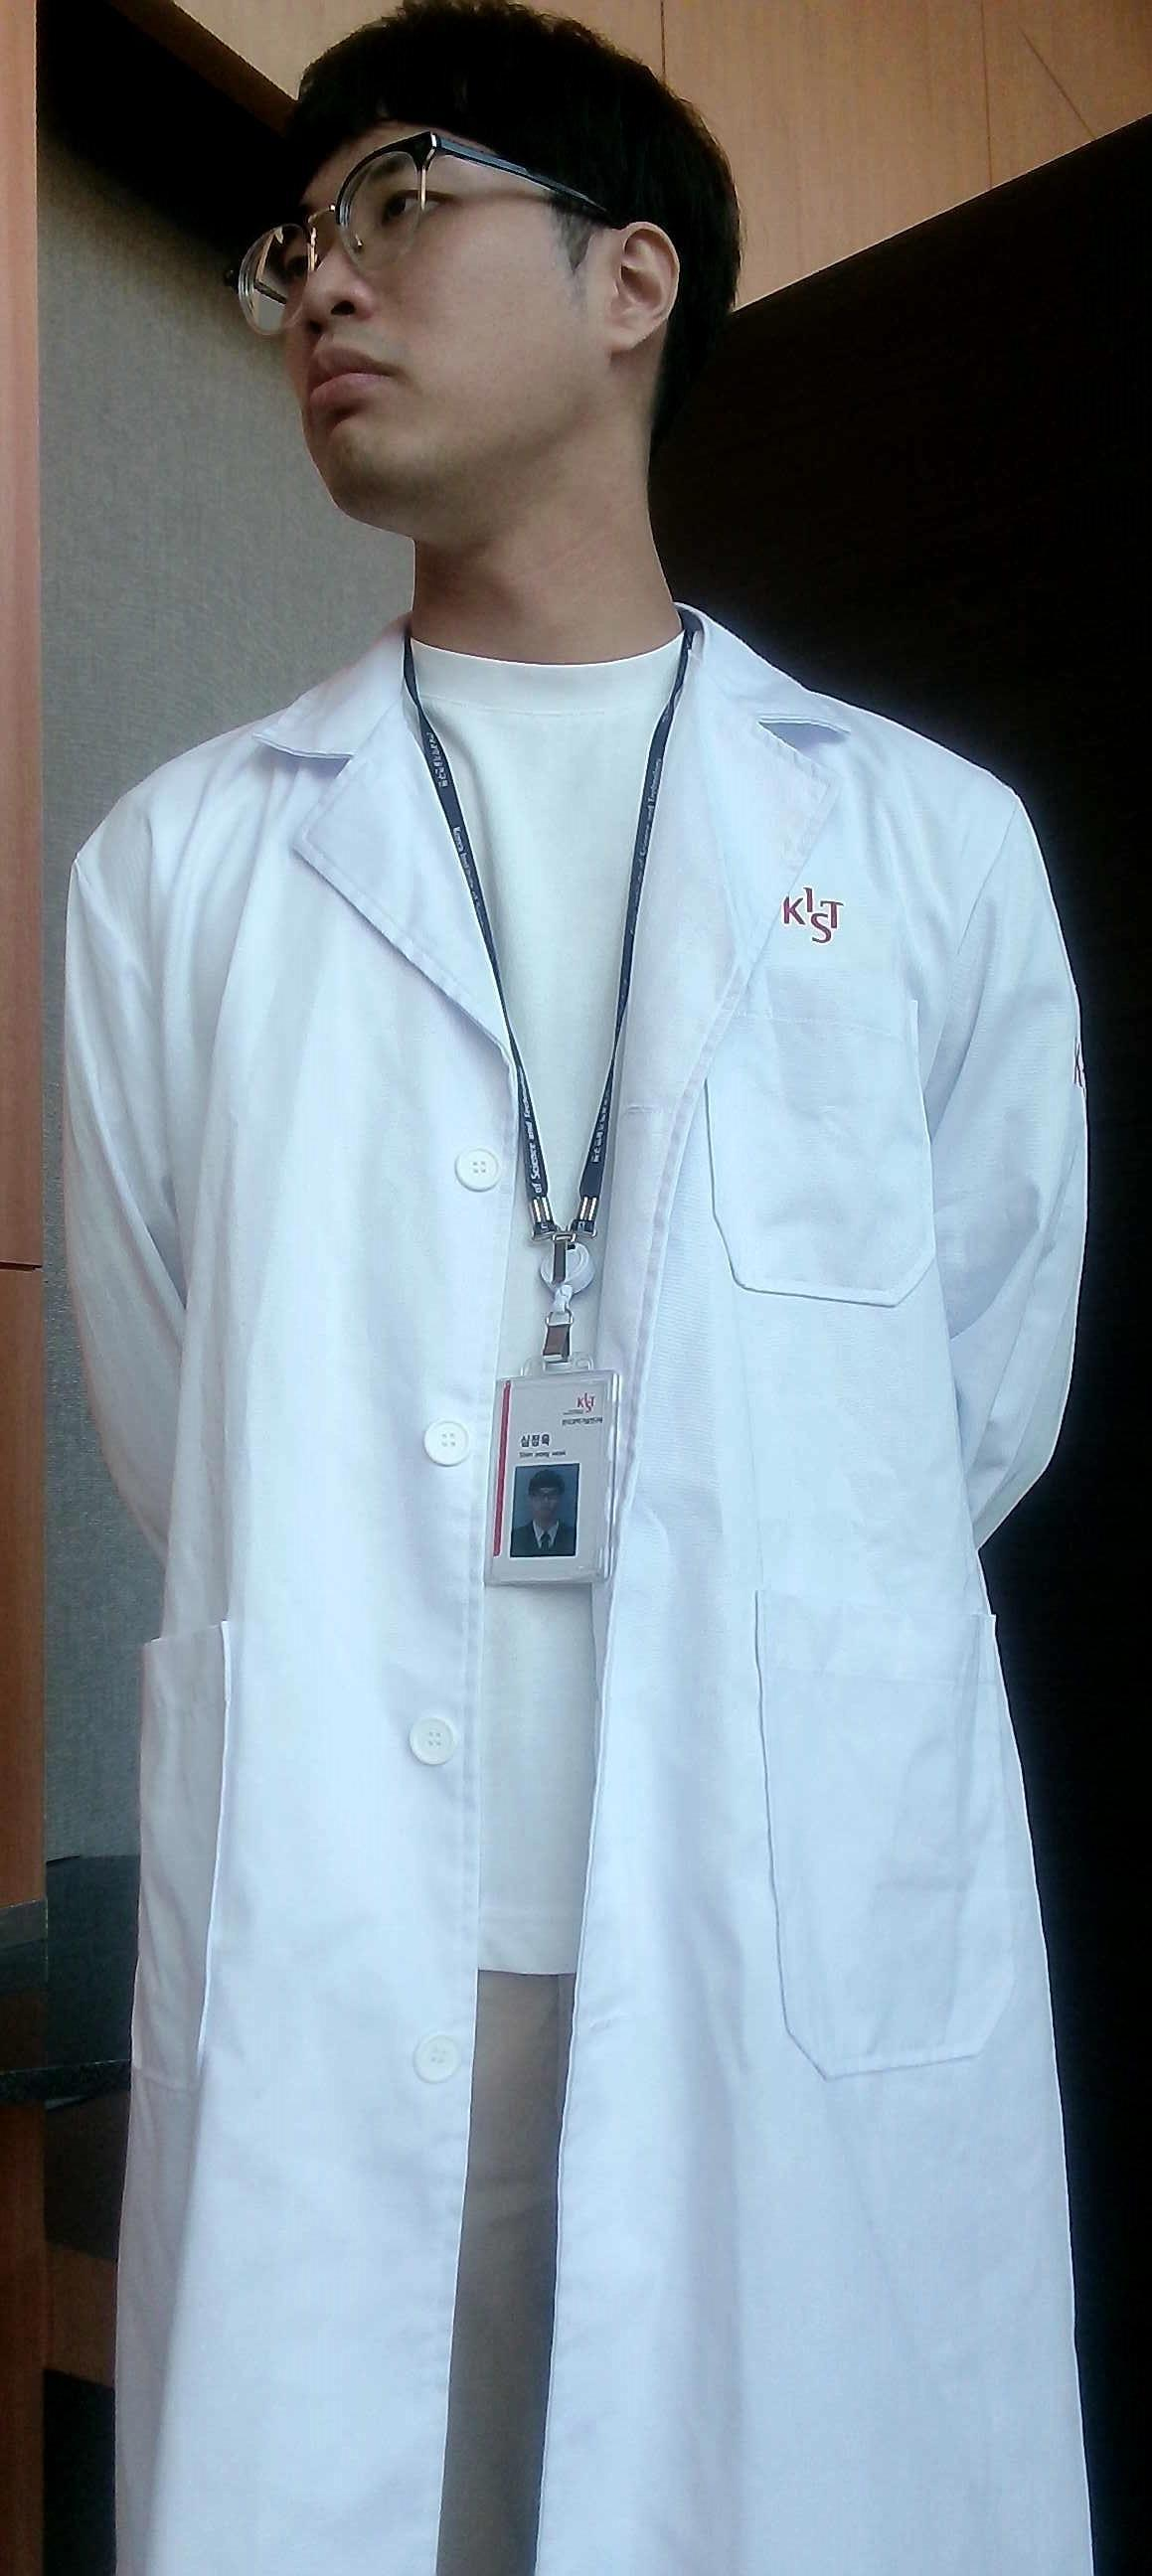lab_coat: (66, 672, 1091, 2576)
